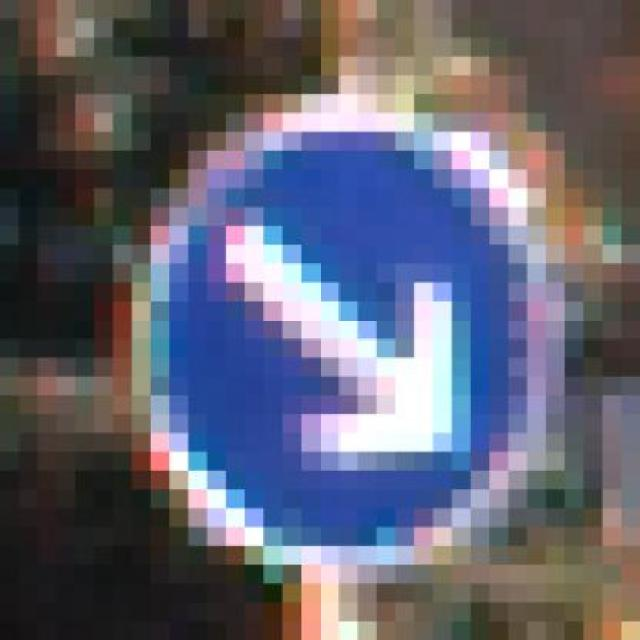Keep-Right: (94, 75, 603, 602)
